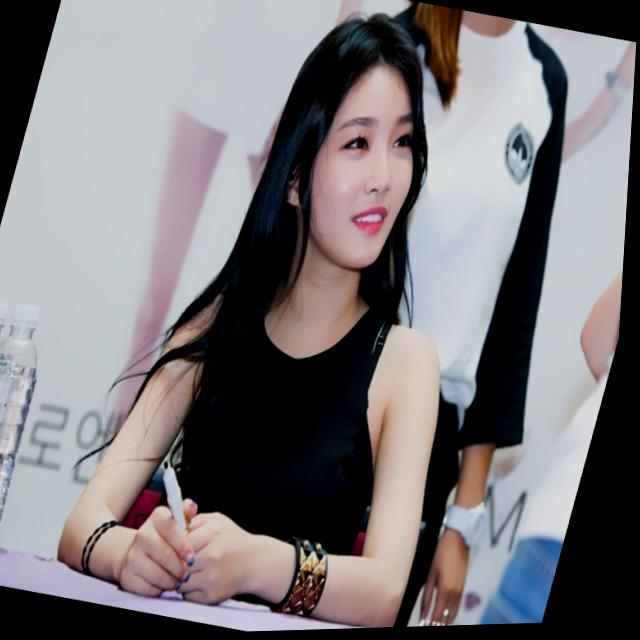face: (244, 9, 462, 290)
